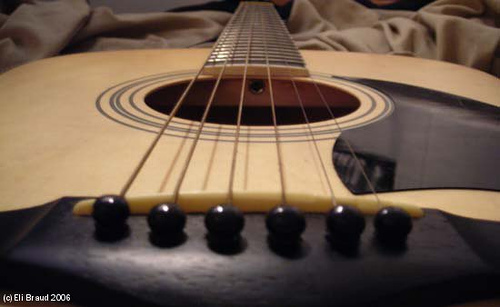guitar: (1, 1, 500, 307)
